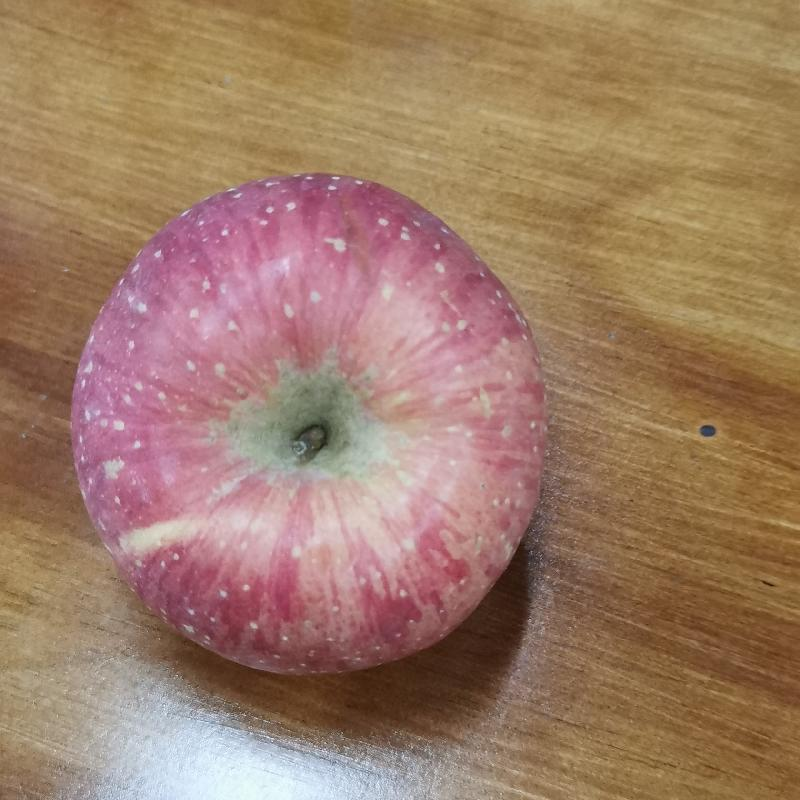apples: (68, 170, 556, 683)
